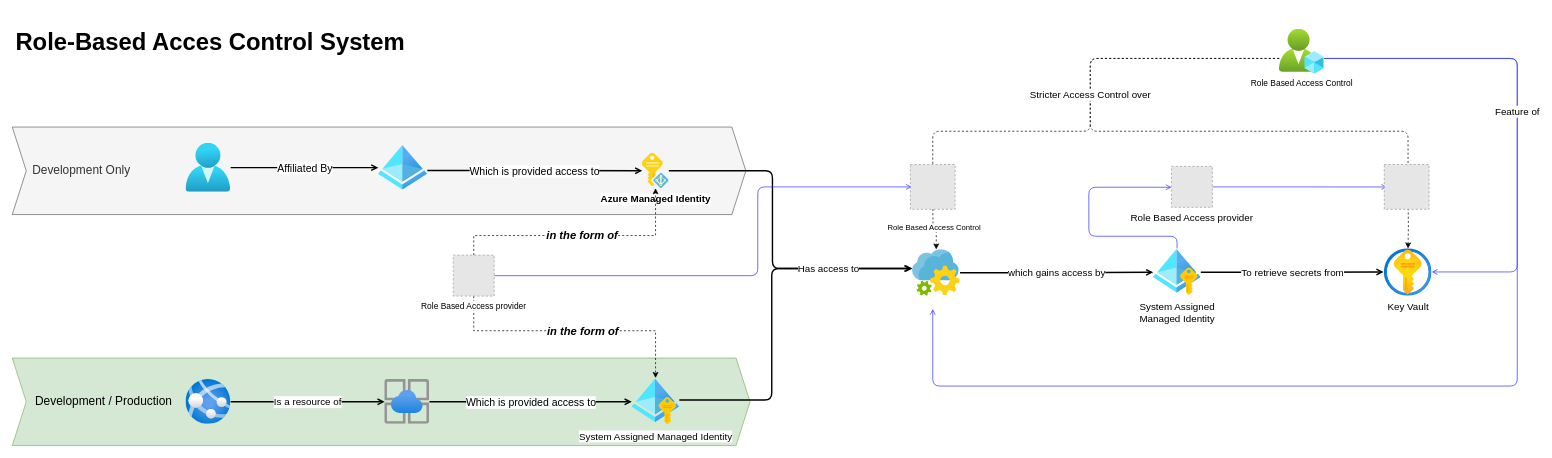
Some shapes in this 1552 by 458 pixel diagram are drawn without their labels. Grey dashed boxes stand in for pictures. Here are the shapes that lost their labels. From the top down, the centre of each, then its label:
At [208,167]: "Developer".
At [402,167]: "Active Directory Account".
At [936,272]: "App Configuraiton".
At [208,401]: "Web App".
At [406,401]: "App Service Environment".
